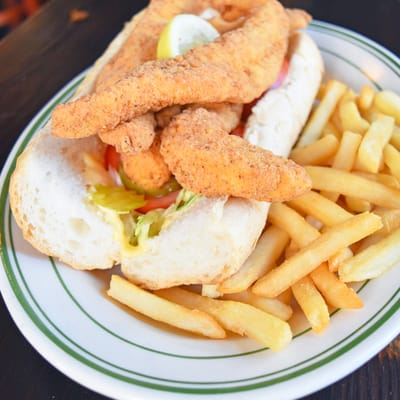soup: (7, 3, 367, 306)
